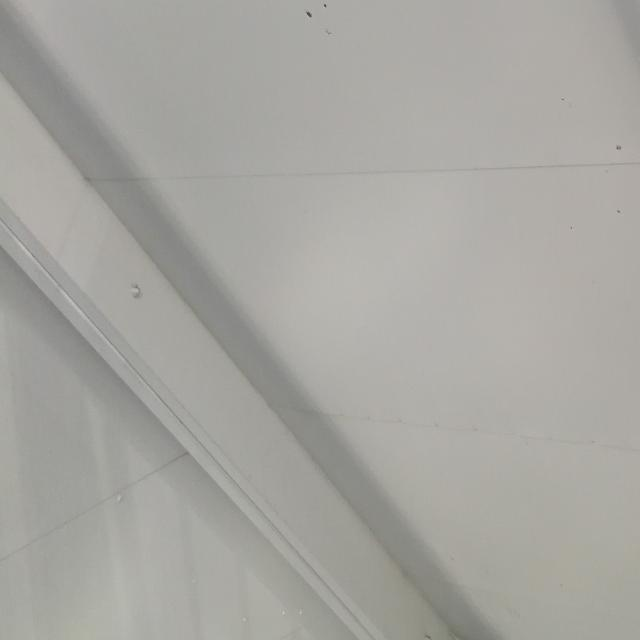fluorescent tube: (408, 0, 640, 336)
